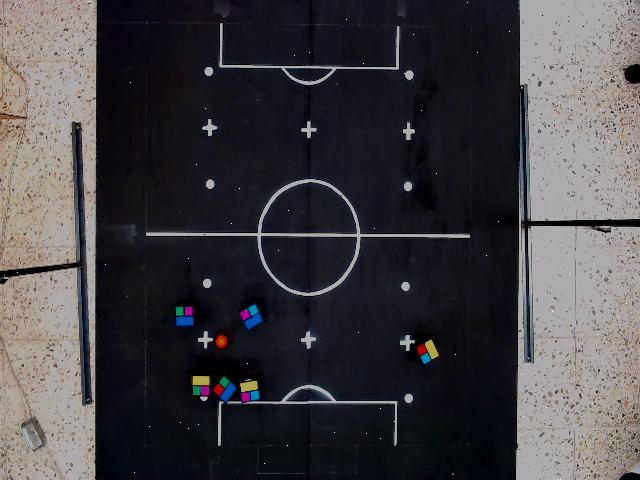robot: (210, 373, 240, 404), (237, 301, 265, 332), (413, 337, 441, 366), (173, 303, 196, 329), (190, 373, 213, 398), (239, 378, 261, 404)
